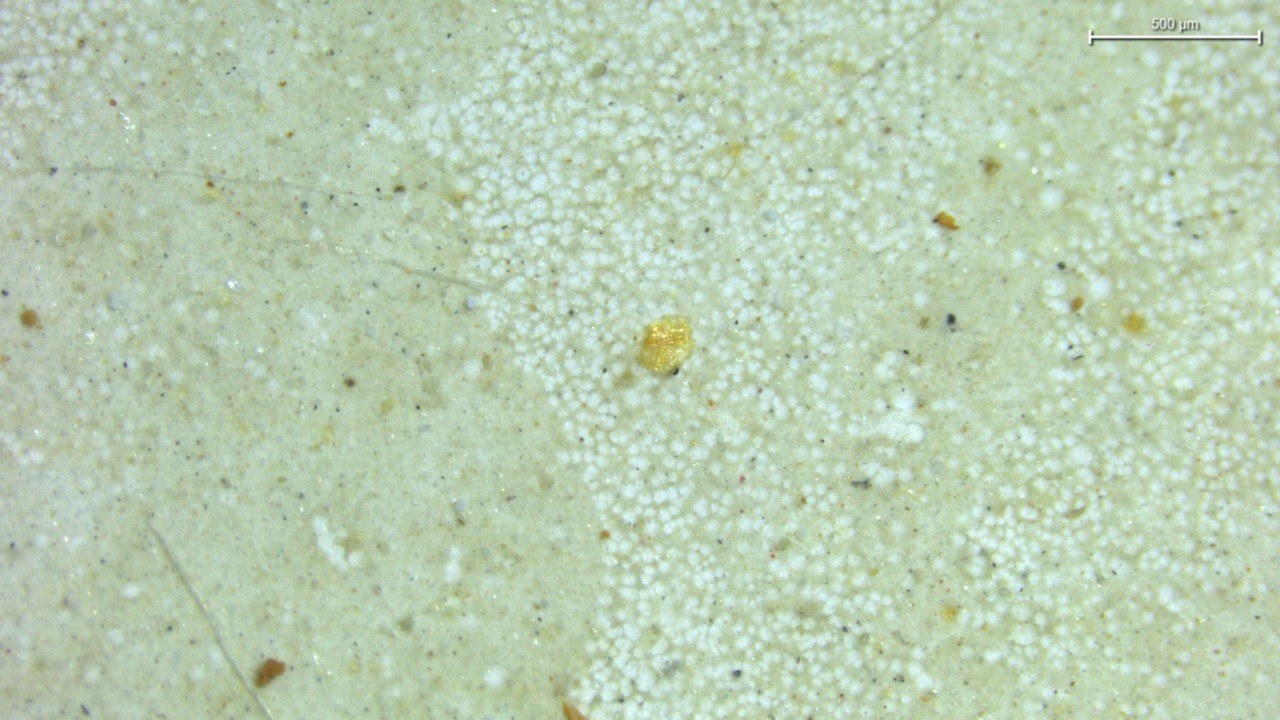microplastic_fragment: (638, 315, 695, 374)
